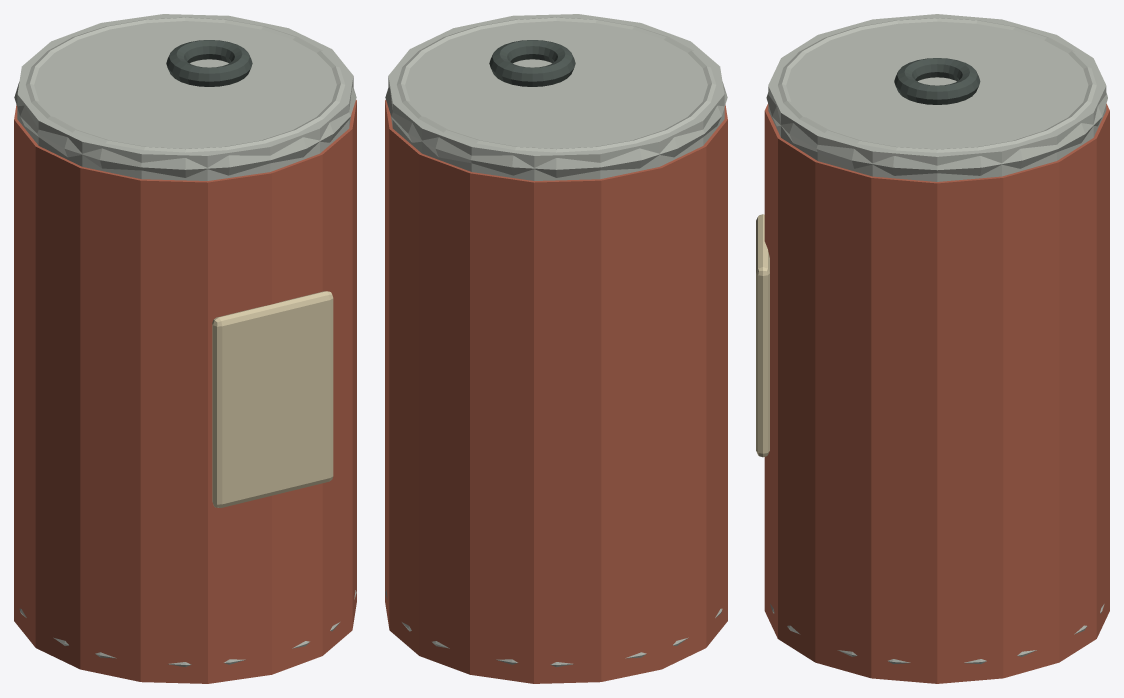
File: Can_Aluminum.glb
The picture shows the model from 3 angles, left to right: view 1: azimuth 30°, elevation 25°; view 2: azimuth 150°, elevation 25°; view 3: azimuth 270°, elevation 25°; orthographic projection.
Parts seen in each view (by area): view 1: Litter; view 2: Litter; view 3: Litter.
Boxes of the visible parts, bbox=[...] form: Litter: bbox=[14, 14, 356, 683]; Litter: bbox=[385, 14, 727, 683]; Litter: bbox=[756, 14, 1109, 683].
Size of the model in its own units: 0.2 by 0.352 by 0.205.
